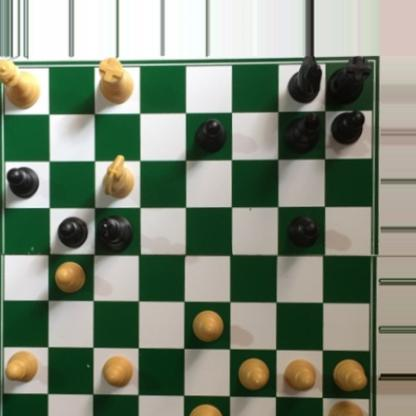black-bishop: (280, 110, 319, 152)
black-king: (93, 213, 133, 253)
black-knight: (287, 56, 325, 105)
black-pawn: (330, 109, 366, 146), (192, 117, 227, 155), (5, 165, 40, 199), (286, 212, 319, 248), (56, 215, 89, 249)
black-rook: (326, 56, 371, 106)
white-king: (187, 400, 228, 416)
white-knight: (99, 150, 136, 199)
white-pawn: (328, 359, 368, 392), (190, 307, 225, 344), (99, 354, 135, 389), (235, 356, 270, 392), (282, 357, 317, 393), (3, 348, 41, 381), (54, 261, 86, 294)
white-queen: (0, 56, 41, 108)
white-rook: (93, 56, 133, 106), (324, 396, 371, 416)
